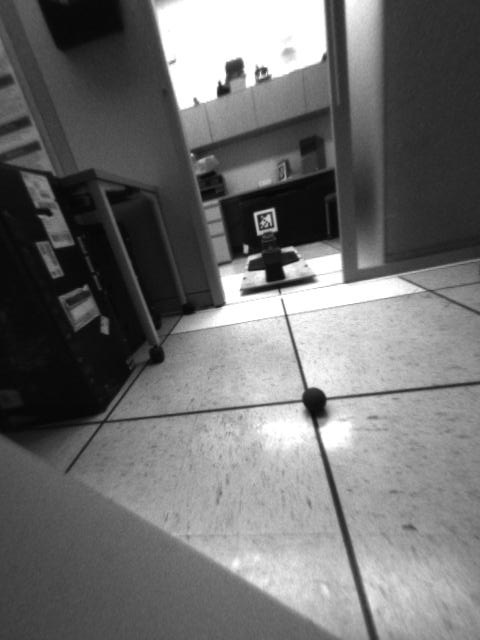dogtoy: (294, 381, 335, 421)
